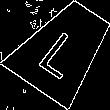L_NE: (34, 20, 92, 79)
